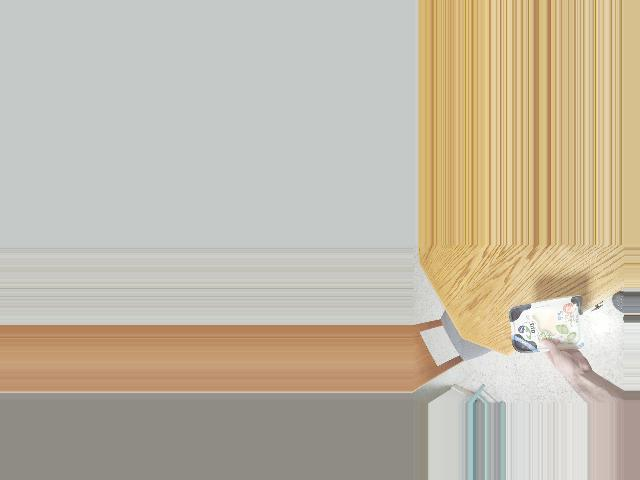cheese: (512, 300, 578, 352)
